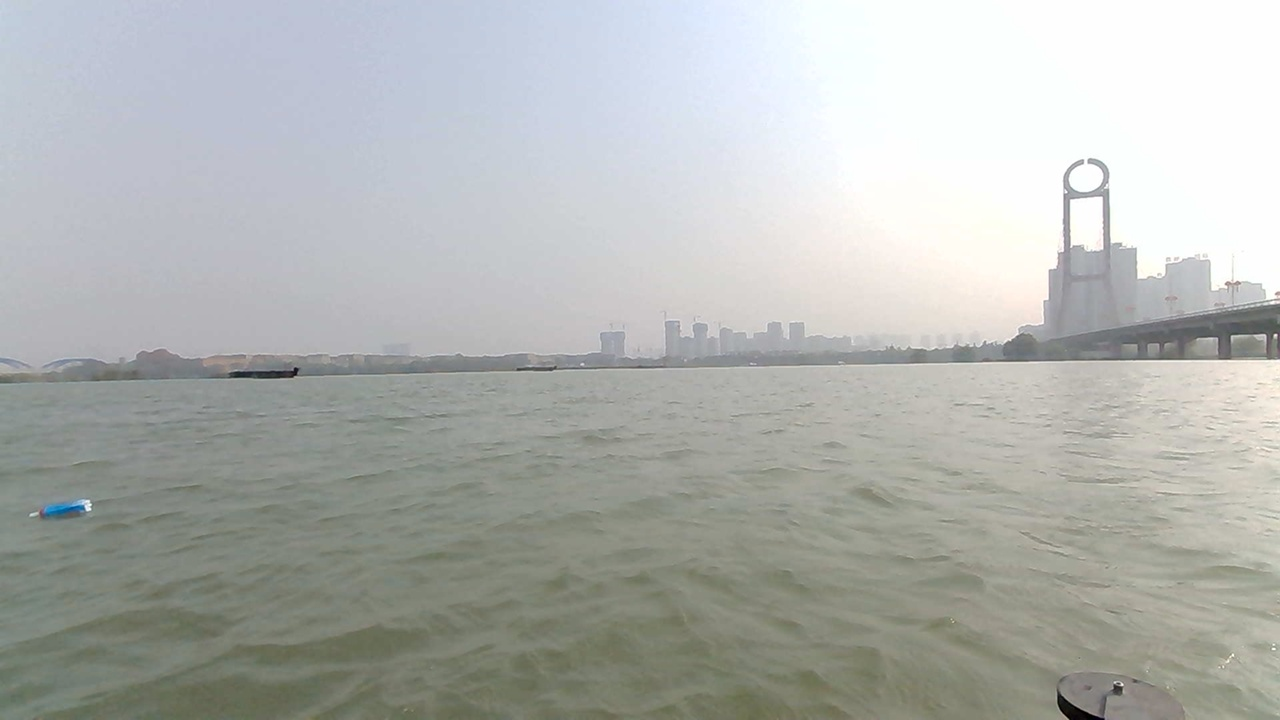bottle: (25, 493, 106, 532)
